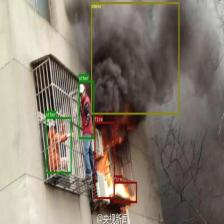fire: (94, 121, 115, 199), (114, 181, 136, 203)
smoke: (91, 2, 179, 114)
